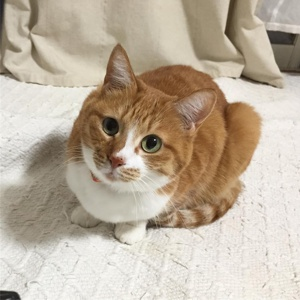cat: (56, 29, 278, 261)
